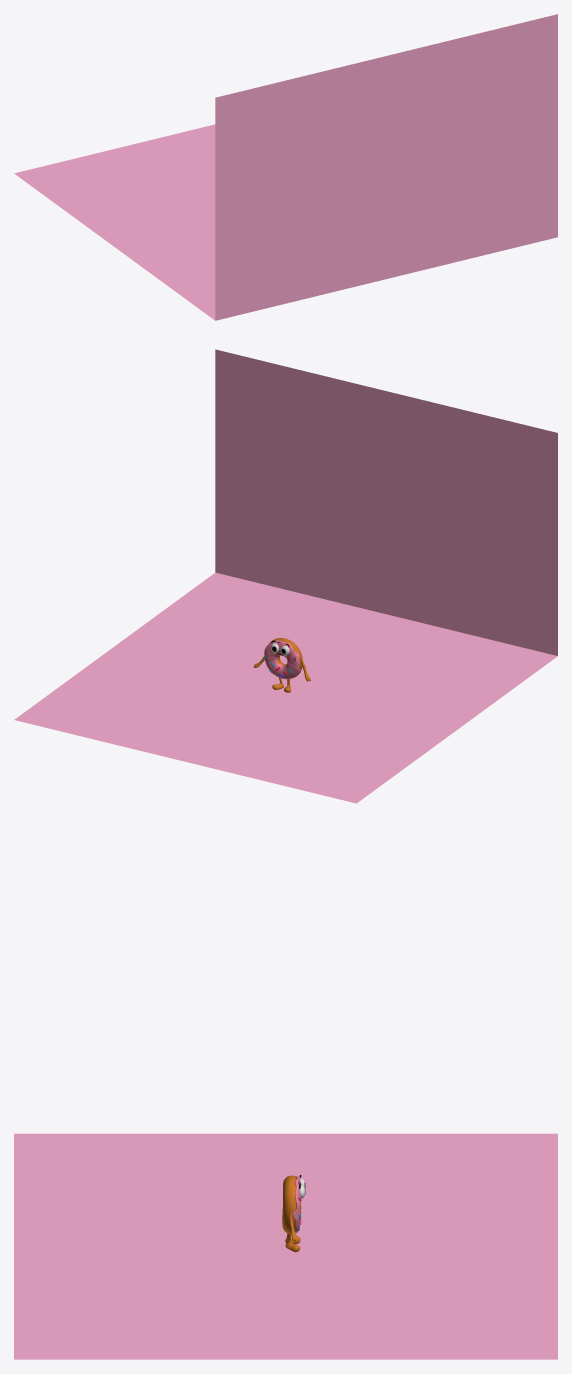
File: donutBoy.glb
3 renders of one model, top to bottom at view 1: azimuth 30°, elevation 25°; view 2: azimuth 150°, elevation 25°; view 3: azimuth 270°, elevation 25°, orthographic. The views are drawn at different scales.
Visible parts, largest first — view 1: pPlane1; view 2: pPlane1, Dona:Group46611; view 3: pPlane1, Dona:Group46611.
Boxes of the visible parts, x1,y1,x2,y2 form: pPlane1: (14, 14, 557, 320); pPlane1: (14, 349, 557, 803); Dona:Group46611: (253, 638, 310, 692); pPlane1: (14, 1133, 557, 1359); Dona:Group46611: (282, 1175, 305, 1252).
Bounding box in the file's own units: 0.5964 × 0.3715 × 0.6072.
Materials: 2 (1 with a texture image).
